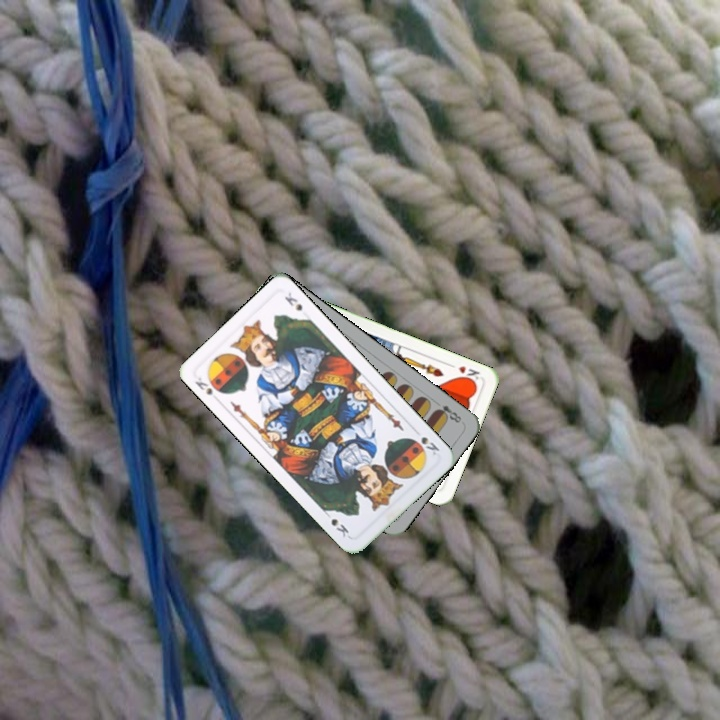E8: (430, 397, 464, 426)
HK: (445, 359, 482, 386)
SK: (410, 425, 442, 458), (191, 372, 216, 398)
